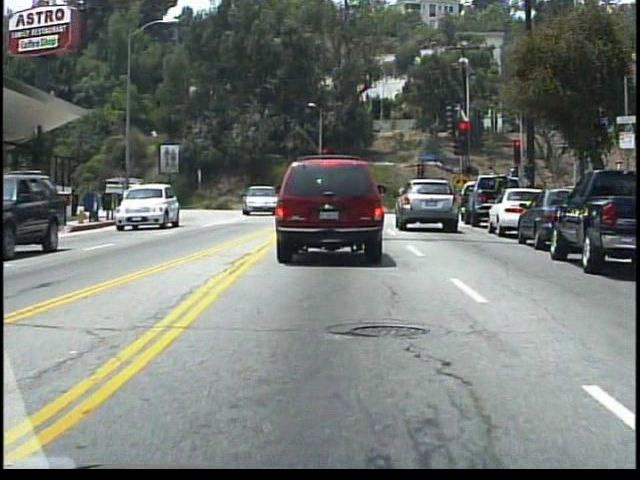person: (315, 186, 330, 212)
